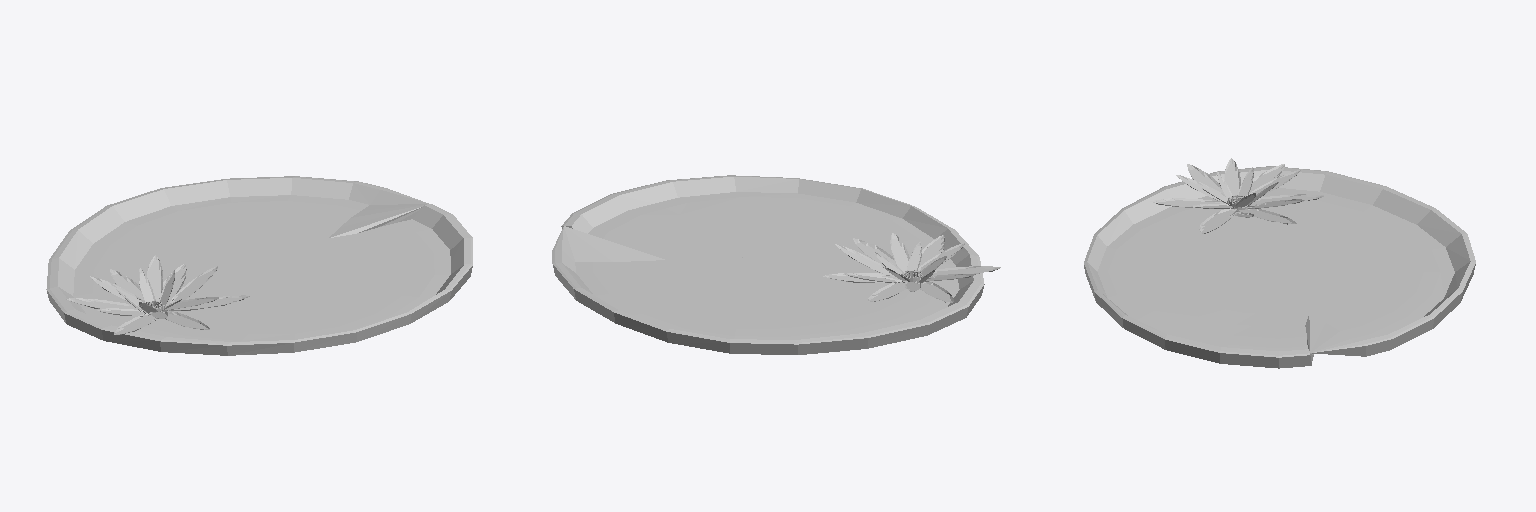
Rendered from KK-seerose_mit_Blatt.obj.
3 views of the same model, side by side, from view 1: azimuth 30°, elevation 25°; view 2: azimuth 150°, elevation 25°; view 3: azimuth 270°, elevation 25° (orthographic).
Parts seen in each view (by area): view 1: seerosenblatt:pSphere1; view 2: seerosenblatt:pSphere1; view 3: seerosenblatt:pSphere1.
Part boxes in pixels (x1,y1,x2,y2): seerosenblatt:pSphere1: (46,176,472,355); seerosenblatt:pSphere1: (552,175,984,354); seerosenblatt:pSphere1: (1084,166,1475,368).
Bounding box in the file's own units: 12.28 × 1.07 × 10.63.